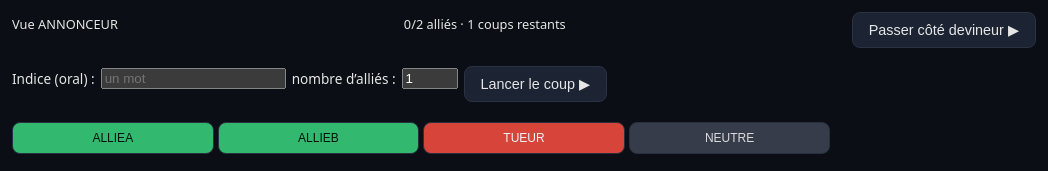
Test case: Codename — coups (mot + nombre) › lancer un coint à 2 puis trouver les 2 alliés = gagné
The width and height of the screenshot is (1048, 171).
Replace the text in the number field with test id "codename-nombre" with "2" at coordinates (430, 78), box x1=402 y1=68 x2=458 y2=88
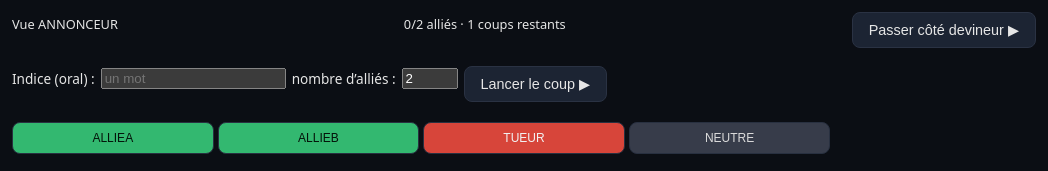
Click the button "Lancer le coup ▶".
click(535, 84)  # box x1=464 y1=66 x2=607 y2=102
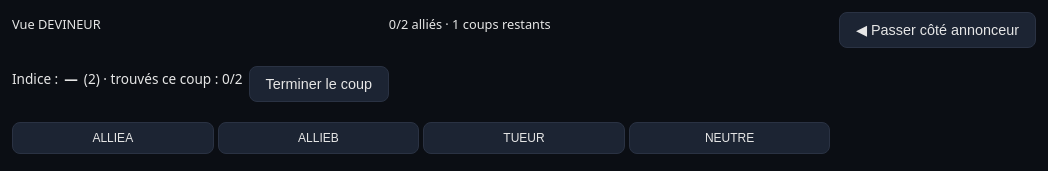
Click the button "ALLIEA".
click(113, 138)  # box x1=12 y1=122 x2=214 y2=154
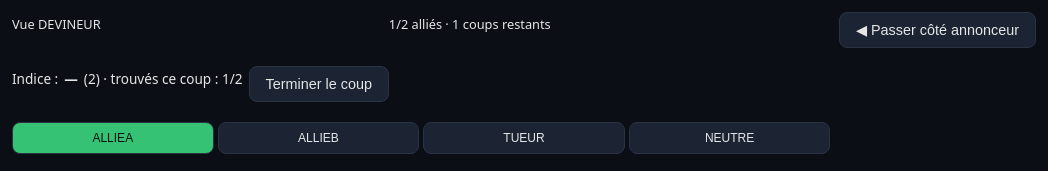
Click the button "ALLIEB".
click(318, 138)  # box x1=218 y1=122 x2=419 y2=154
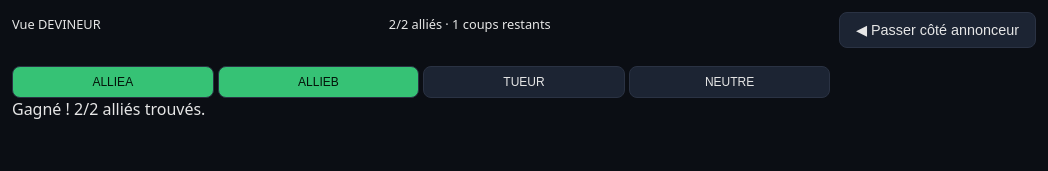
Now the text with test id "codename-fin" shows "Gagn", box x1=12 y1=98 x2=74 y2=120
